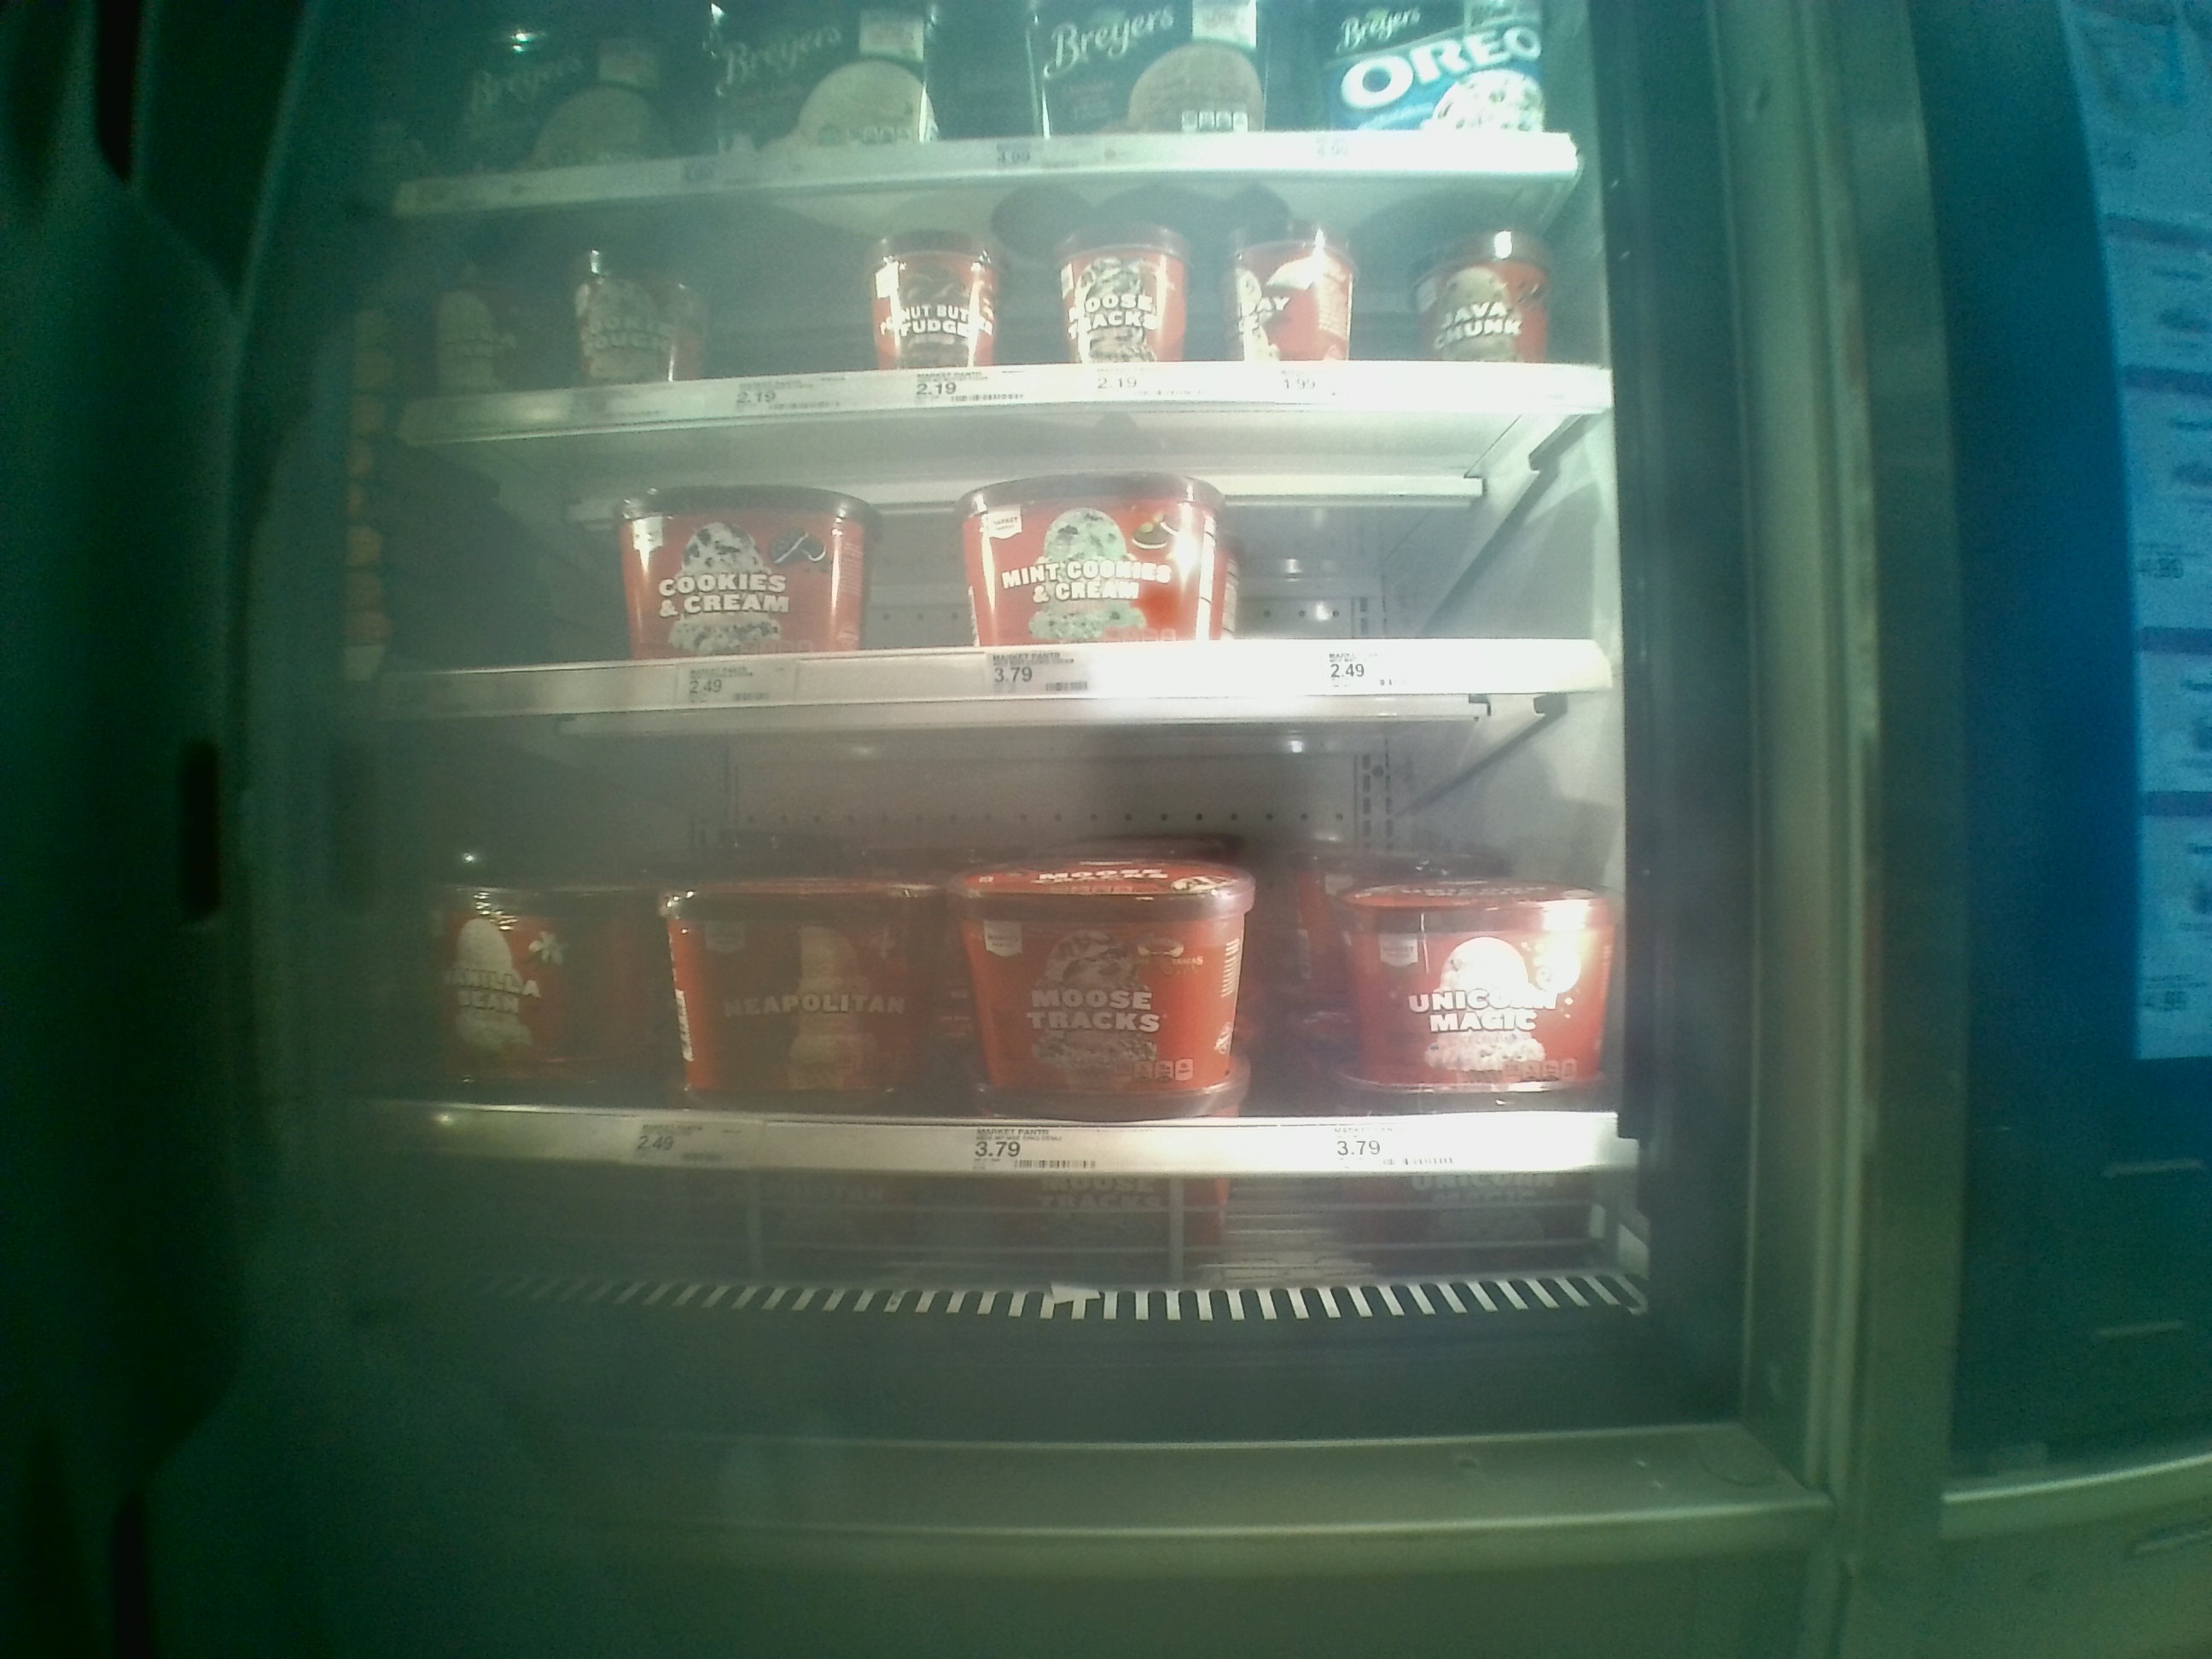ice-cream-shelf: (374, 706, 1630, 1220), (380, 416, 1627, 706), (380, 171, 1606, 416)
